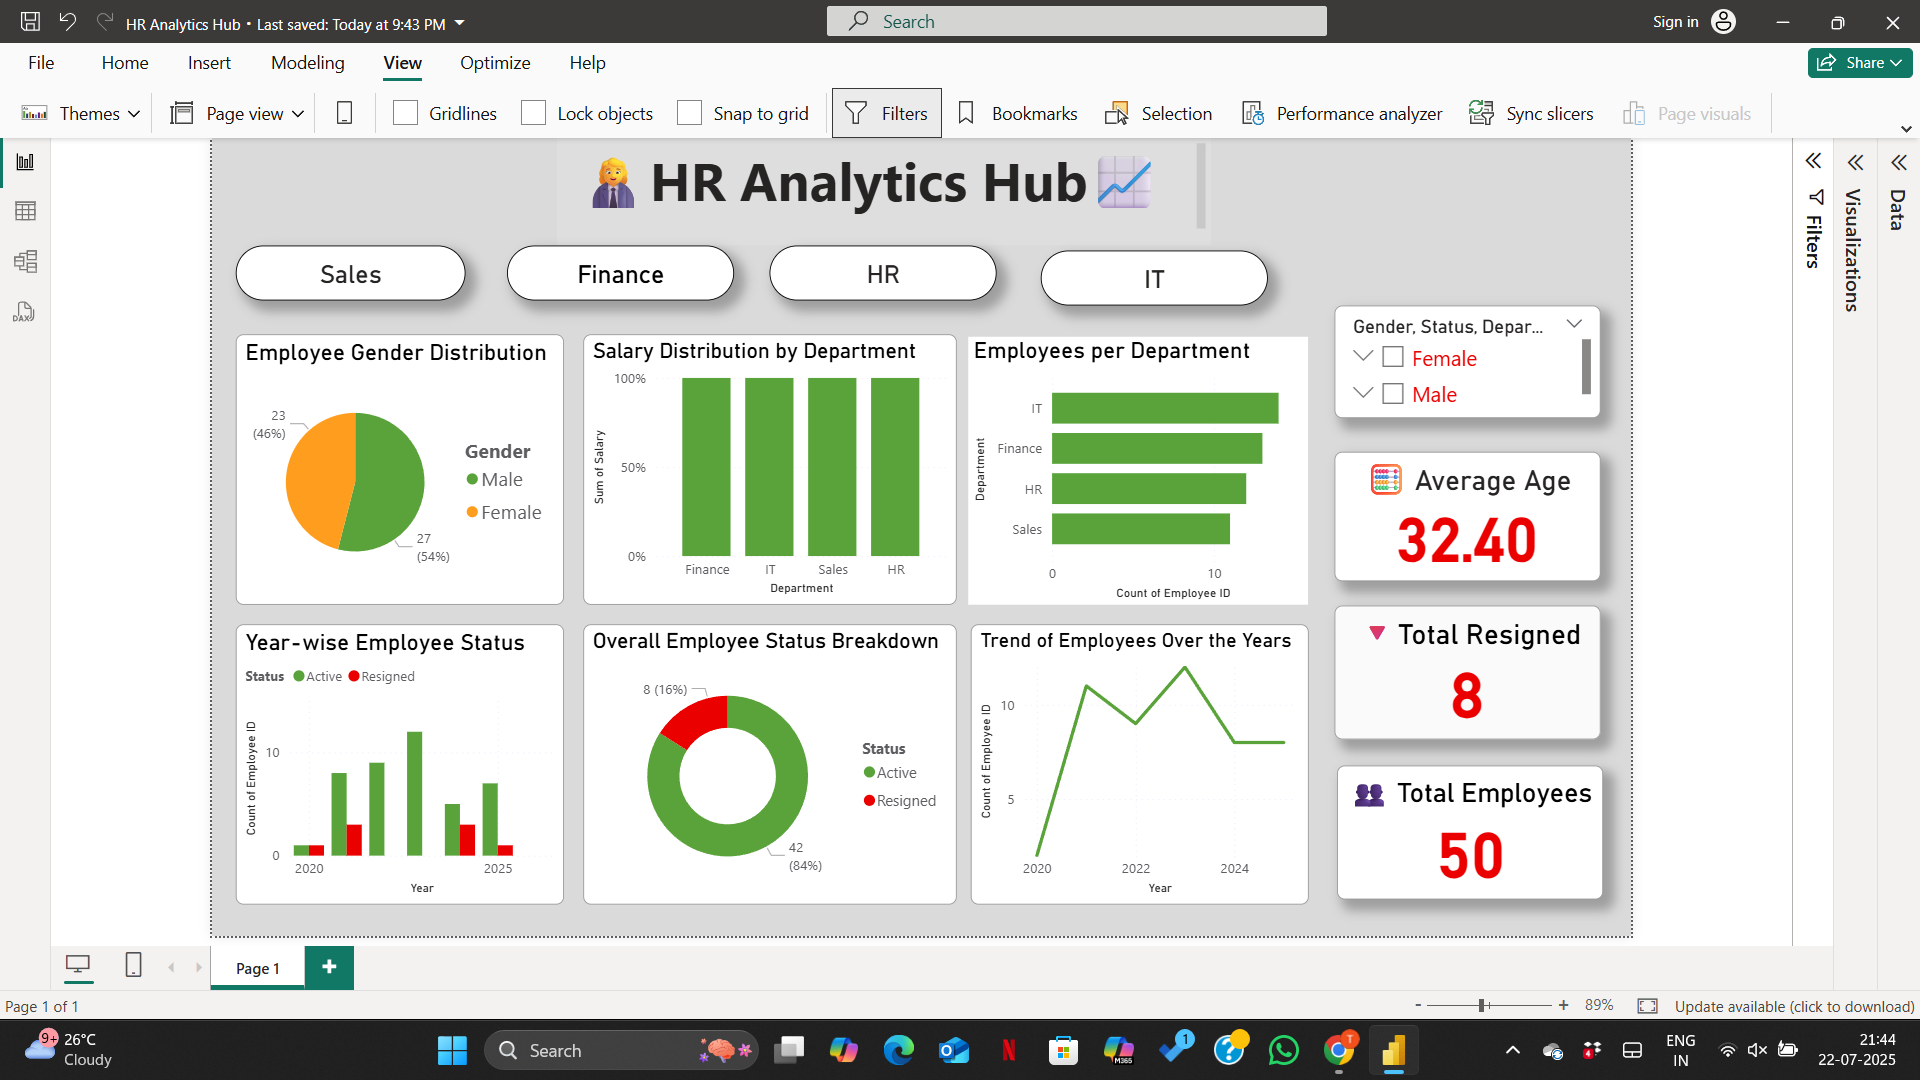

Layout of this report page (visuals, bound fields, positions):
{"tool":"powerbi","page":{"name":"Page 1","canvas":[1280,720],"ordinal":0},"visuals":[{"type":"barChart","title":"Employees per Department","fields":{"Category":["hr_dashboard_data.Department"],"Y":["CountNonNull(hr_dashboard_data.Employee ID)"]},"box":[682.3,179.2,306.6,241.8],"z":0},{"type":"pieChart","title":" Employee Gender Distribution","fields":{"Category":["hr_dashboard_data.Gender"],"Y":["CountNonNull(hr_dashboard_data.Employee ID)"]},"box":[21.6,177.1,295.8,244],"z":1000},{"type":"donutChart","title":"Overall Employee Status Breakdown","fields":{"Category":["hr_dashboard_data.Status"],"Y":["CountNonNull(hr_dashboard_data.Employee ID)"]},"box":[334.7,438.3,336.8,252.6],"z":2000},{"type":"hundredPercentStackedColumnChart","title":"Salary Distribution by Department","fields":{"Category":["hr_dashboard_data.Department"],"Y":["Sum(hr_dashboard_data.Salary)"]},"box":[334.7,177.1,336.8,244],"z":3000},{"type":"lineChart","title":"Trend of Employees Over the Years","fields":{"Category":["hr_dashboard_data.Joining Date.Variation.Date Hierarchy.Year","hr_dashboard_data.Joining Date.Variation.Date Hierarchy.Month"],"Y":["CountNonNull(hr_dashboard_data.Employee ID)"]},"box":[684.5,438.3,304.5,252.6],"z":4000},{"type":"slicer","fields":{"Values":["hr_dashboard_data.Gender","hr_dashboard_data.Status","hr_dashboard_data.Department"]},"box":[1012.7,151.1,239.7,101.5],"z":5000},{"type":"clusteredColumnChart","title":"Year-wise Employee Status","fields":{"Category":["hr_dashboard_data.Joining Date.Variation.Date Hierarchy.Year"],"Series":["hr_dashboard_data.Status"],"Y":["CountNonNull(hr_dashboard_data.Employee ID)"]},"box":[21.6,438.3,295.8,252.6],"z":6000},{"type":"card","title":"👥 Total Employees","fields":{"Values":["CountNonNull(hr_dashboard_data.Employee ID)"]},"box":[1014.9,565.7,239.7,120.9],"z":7000},{"type":"card","title":"🔻Total Resigned","fields":{"Values":["CountNonNull(hr_dashboard_data.Employee ID)"]},"box":[1012.7,421.1,239.7,120.9],"z":8000},{"type":"card","title":"🧮 Average Age","fields":{"Values":["Avg(hr_dashboard_data.Age)"]},"box":[1012.7,282.9,239.7,116.6],"z":9000},{"type":"textbox","box":[310.9,0,589.5,97.2],"z":10000},{"type":"card","fields":{"Values":["Min(hr_dashboard_data.Division)"]},"box":[265.6,97.2,205.1,49.7],"z":10001},{"type":"card","fields":{"Values":["Max(hr_dashboard_data.Division)"]},"box":[21.6,97.2,207.3,49.7],"z":10002},{"type":"card","fields":{"Values":["Min(hr_dashboard_data.Division)"]},"box":[503.1,97.2,205.1,49.7],"z":10003},{"type":"card","fields":{"Values":["Min(hr_dashboard_data.Division)"]},"box":[747.1,101.5,205.1,49.7],"z":10004}]}

Visuals, with their boxes on the page's 1280x720 design canvas (x1, y1, x2, y2). These are canvas units, not pixel positions in the 1920x1080 screenshot, which may show the page scaled, cropped or inside an application window:
"Employees per Department" barChart: Rect(682, 179, 989, 421)
" Employee Gender Distribution" pieChart: Rect(22, 177, 317, 421)
"Overall Employee Status Breakdown" donutChart: Rect(335, 438, 672, 691)
"Salary Distribution by Department" hundredPercentStackedColumnChart: Rect(335, 177, 672, 421)
"Trend of Employees Over the Years" lineChart: Rect(684, 438, 989, 691)
slicer - hr_dashboard_data.Gender x hr_dashboard_data.Status: Rect(1013, 151, 1252, 253)
"Year-wise Employee Status" clusteredColumnChart: Rect(22, 438, 317, 691)
"👥 Total Employees" card: Rect(1015, 566, 1255, 687)
"🔻Total Resigned" card: Rect(1013, 421, 1252, 542)
"🧮 Average Age" card: Rect(1013, 283, 1252, 400)
textbox: Rect(311, 0, 900, 97)
card - Min(hr_dashboard_data.Division): Rect(266, 97, 471, 147)
card - Max(hr_dashboard_data.Division): Rect(22, 97, 229, 147)
card - Min(hr_dashboard_data.Division): Rect(503, 97, 708, 147)
card - Min(hr_dashboard_data.Division): Rect(747, 102, 952, 151)
